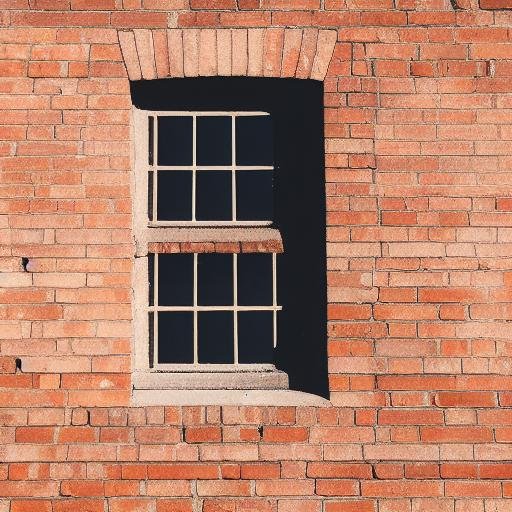Window: (115, 30, 356, 410)
